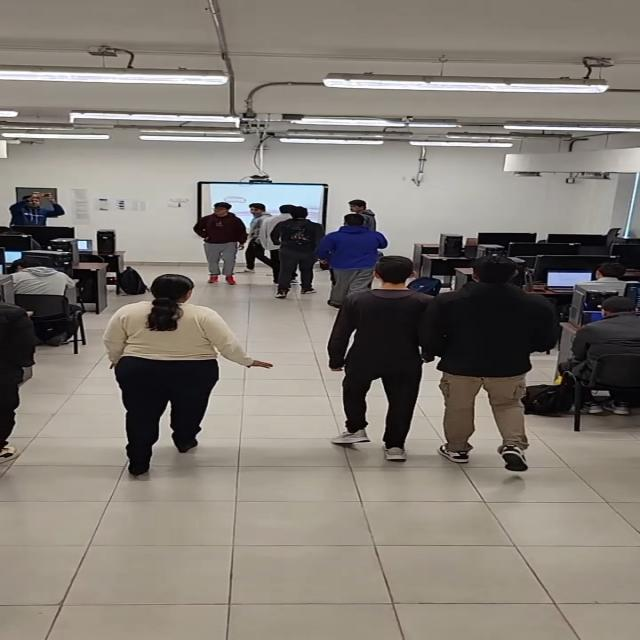Persona: (431, 253, 561, 476), (103, 270, 237, 480), (328, 254, 431, 463), (273, 199, 320, 298), (323, 210, 378, 292), (192, 198, 242, 288), (243, 198, 270, 280)
